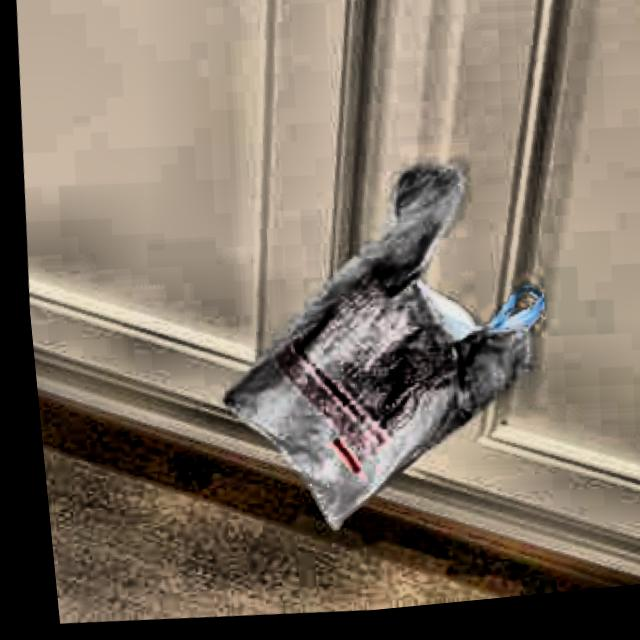Plastic: (165, 124, 583, 572)
